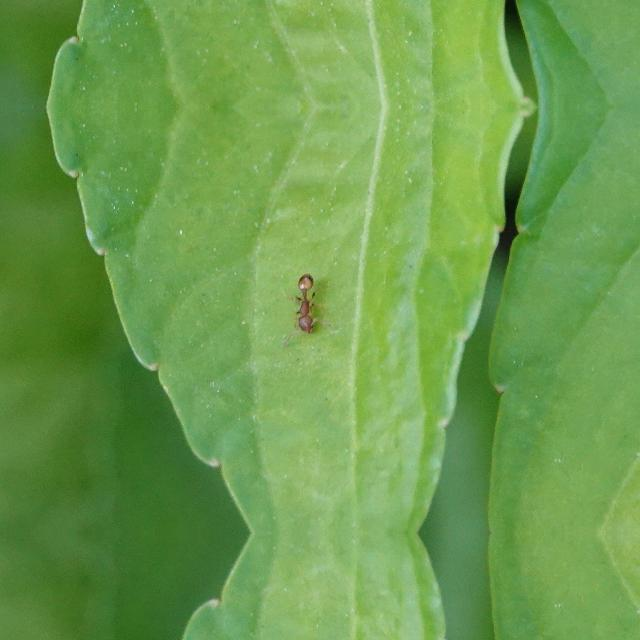Temnothorax: (284, 268, 328, 338)
